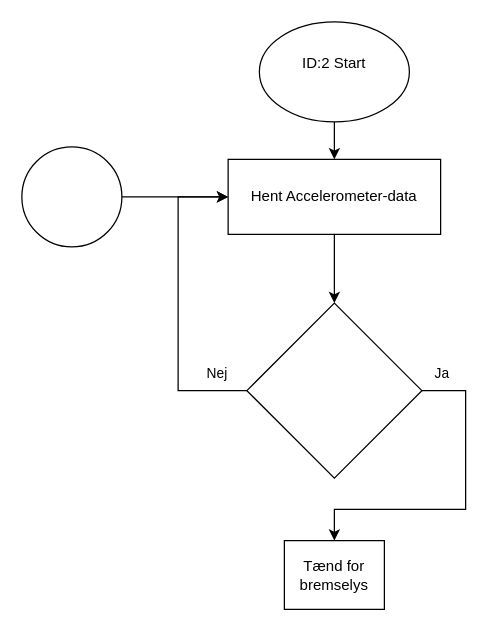
This 498x631 diagram has some shape labels left out. Here are the shapes that lost their labels. From the top down, the centre of each, then its label:
At pixel 71 196: "E Main".
At pixel 334 390: "Bliver der bremset?".
